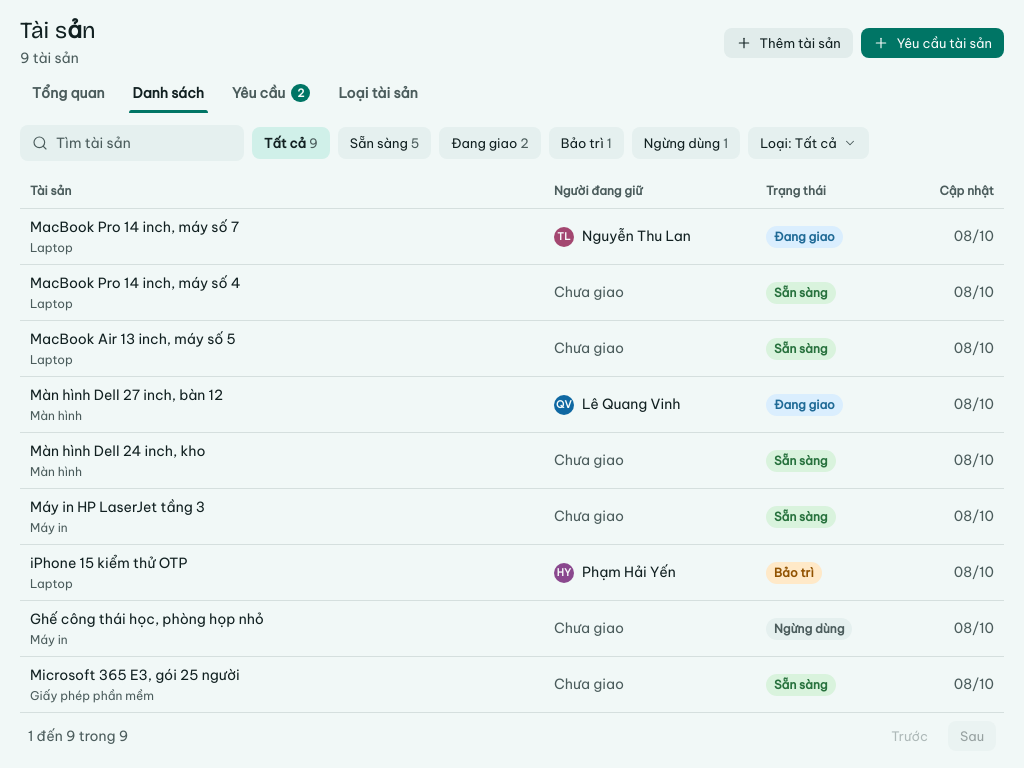
Test: AssetsScreen: list › filters by type from a chip in the filter row that opens a menu of type names
Expected: the button "MacBook Pro 14 inch, máy số 7" is shown, [30,217,239,238]
Click the button with aria-label "Loại tài sản: Tất cả".
click(808, 143)  # box [748,127,869,159]
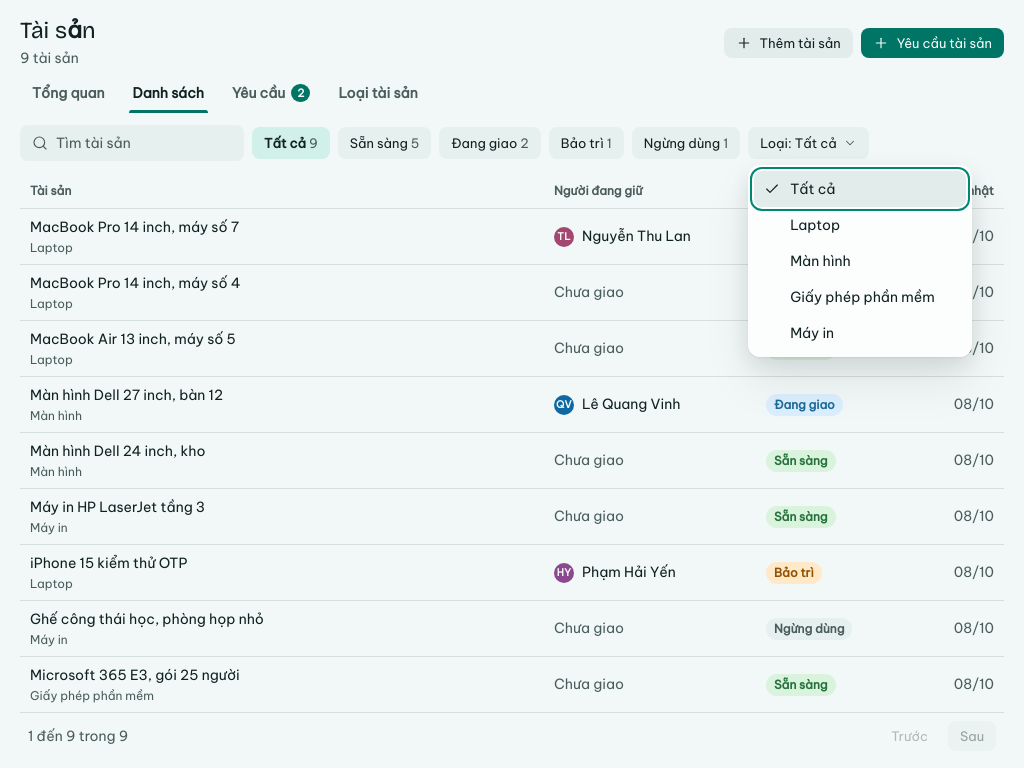
Now the menu items read "Tất cả", "Laptop", "Màn hình", "Giấy phép phần mềm", "Máy in", in this order
Click the menu item "Màn hình".
click(860, 261)  # box [754,243,966,279]
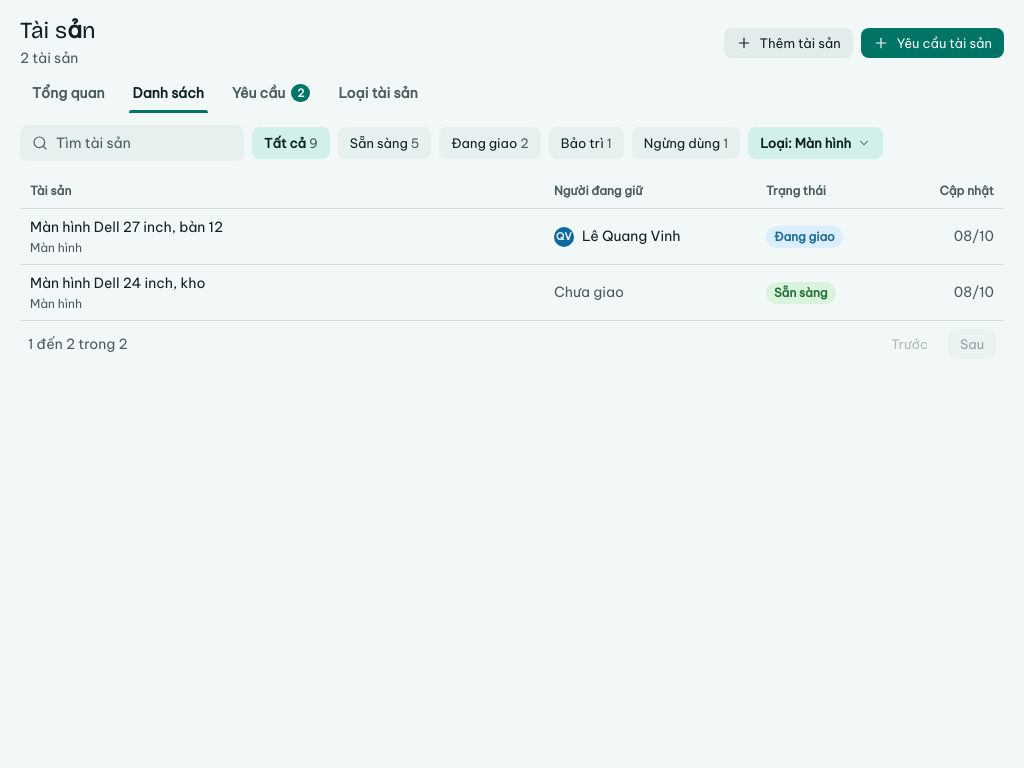
Now the button with aria-label "Loại tài sản: Màn hình" reads "Loại: Màn hình", box [748,127,883,159]
